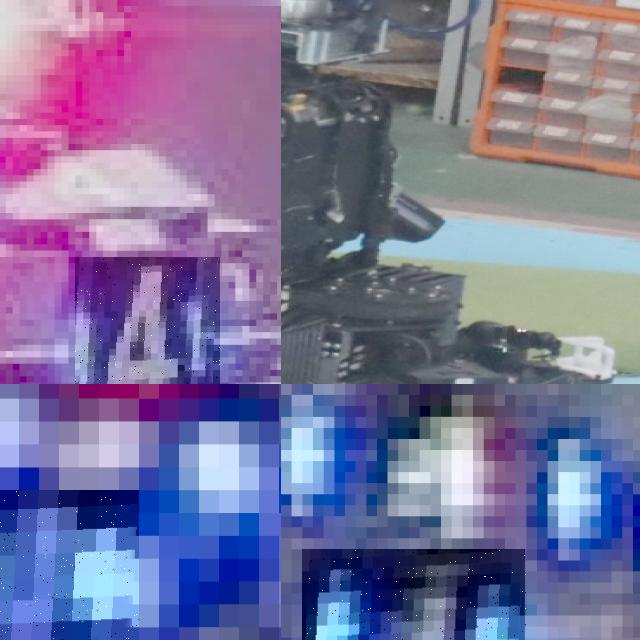B3: (0, 490, 139, 640)
B4: (302, 549, 526, 640), (75, 257, 221, 384)
